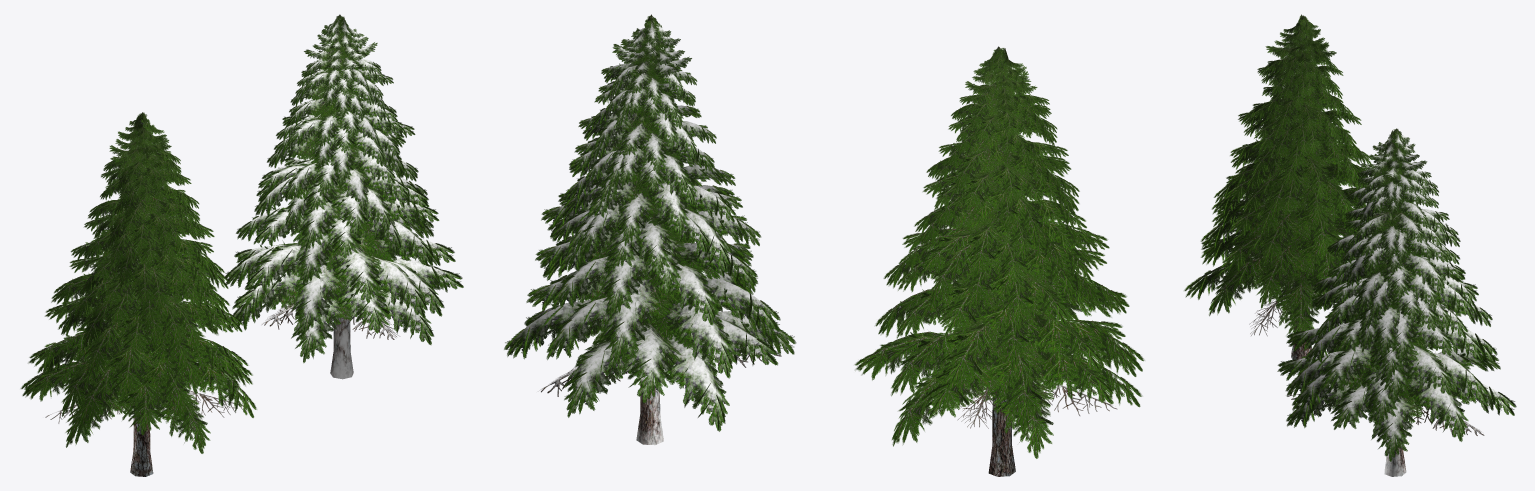
File: forest.glb
3 renders of one model, left to right at view 1: azimuth 30°, elevation 25°; view 2: azimuth 150°, elevation 25°; view 3: azimuth 270°, elevation 25°, orthographic. The views are drawn at different scales.
Parts seen in each view (by area): view 1: Object_3, Object_2; view 2: Object_2, Object_3; view 3: Object_3, Object_2.
Boxes of the visible parts, x1,y1,x2,y2 form: Object_3: [225, 14, 463, 379]; Object_2: [20, 112, 256, 476]; Object_2: [854, 46, 1144, 476]; Object_3: [504, 14, 796, 445]; Object_3: [1277, 128, 1516, 476]; Object_2: [1184, 14, 1388, 359].
Size of the model in its own units: 406 by 297 by 266.
2 materials, 2 textured.
